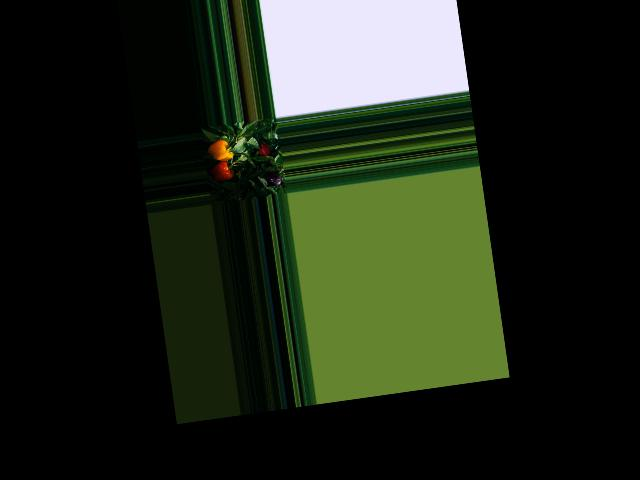bell_pepper: (207, 138, 235, 167)
